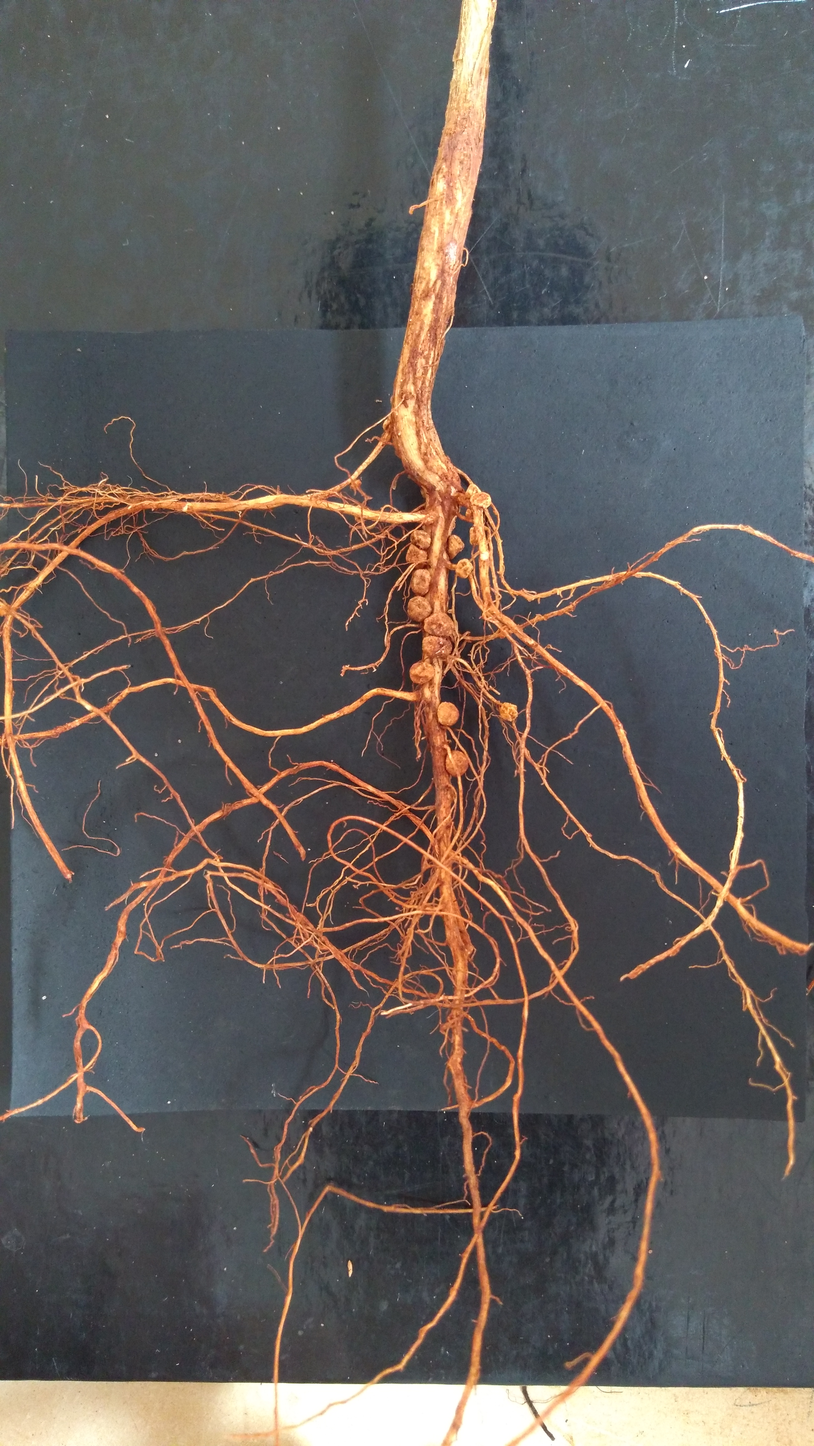nodule: (424, 612, 455, 637), (422, 635, 452, 658), (445, 932, 473, 956), (407, 596, 432, 622), (445, 750, 469, 777), (405, 544, 428, 571), (409, 662, 435, 685), (410, 568, 431, 596), (437, 702, 459, 726), (447, 534, 465, 559), (469, 524, 491, 544), (416, 509, 440, 526), (410, 530, 431, 549), (499, 702, 518, 722), (455, 558, 473, 579), (470, 492, 491, 509), (434, 837, 446, 863), (354, 504, 370, 522), (452, 963, 468, 981), (465, 483, 482, 499), (382, 418, 395, 432), (435, 868, 446, 881), (350, 479, 361, 489), (465, 509, 473, 519), (493, 509, 498, 515)
